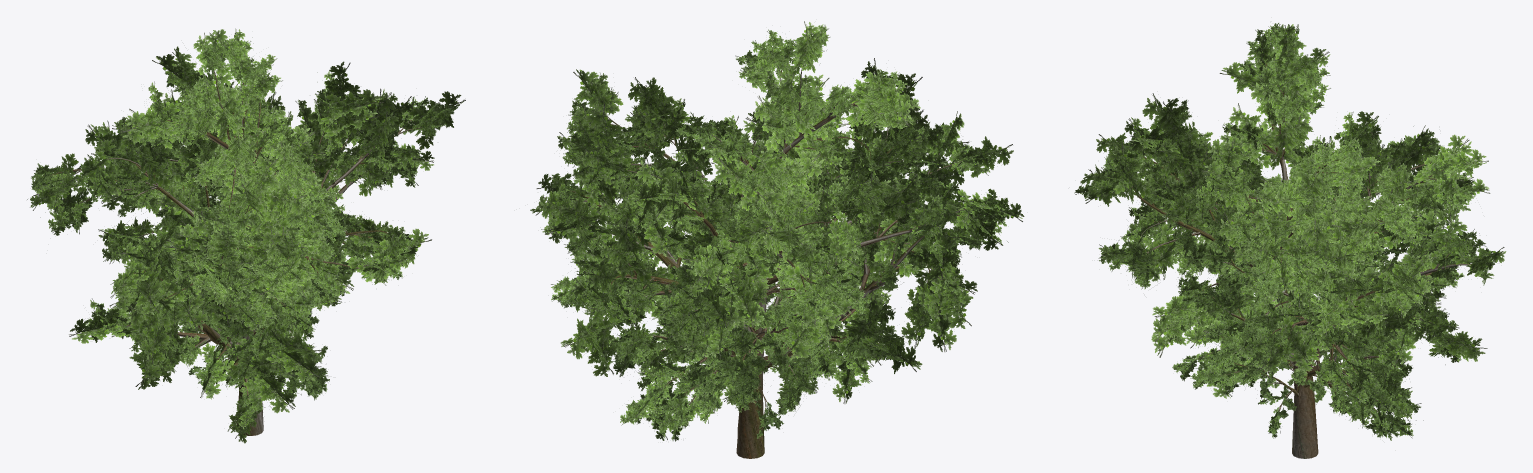
The model's file is ez-oak.glb.
The picture shows the model from 3 angles, left to right: view 1: azimuth 30°, elevation 25°; view 2: azimuth 150°, elevation 25°; view 3: azimuth 270°, elevation 25°; orthographic projection. The views are drawn at different scales.
Parts seen in each view (by area): view 1: large_mid, large_near, medium_near, medium_mid; view 2: large_mid, large_near, medium_mid, medium_near, small_near, small_mid; view 3: large_mid, large_near, medium_mid, medium_near, small_mid, small_near.
Boxes of the visible parts, x1,y1,x2,y2 form: large_mid: (27, 29, 465, 443); large_near: (31, 28, 453, 435); medium_near: (146, 151, 359, 400); medium_mid: (155, 144, 358, 395); large_mid: (530, 21, 1024, 458); large_near: (541, 24, 1010, 458); medium_mid: (609, 151, 865, 440); medium_near: (609, 174, 871, 441); small_near: (672, 326, 804, 438); small_mid: (686, 340, 812, 430); large_mid: (1080, 24, 1506, 458); large_near: (1074, 23, 1496, 458); medium_mid: (1174, 178, 1423, 440); medium_near: (1172, 179, 1412, 437); small_mid: (1239, 340, 1351, 438); small_near: (1241, 342, 1371, 434).
Bounding box in the file's own units: 18.67 × 18.12 × 18.26.
Materials: 3 (3 with a texture image).
